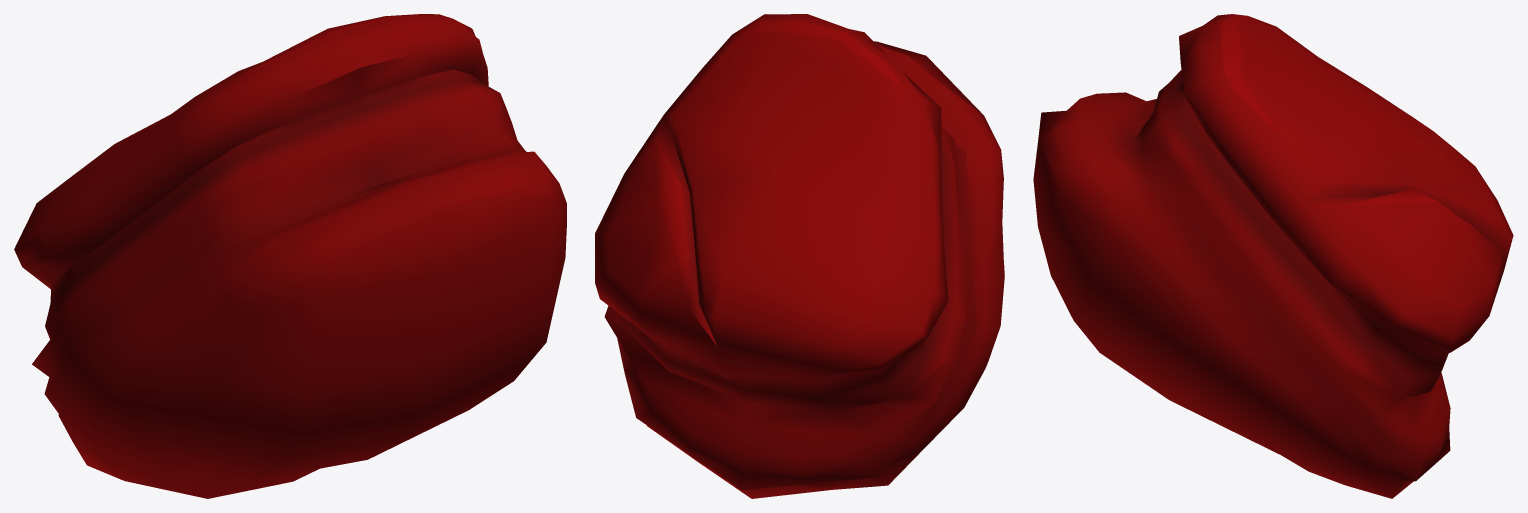
Rendered from geology-rocks-slantedrock_v4.fbx.
3 views of the same model, side by side, from view 1: azimuth 30°, elevation 25°; view 2: azimuth 150°, elevation 25°; view 3: azimuth 270°, elevation 25° (orthographic). The views are drawn at different scales.
Parts seen in each view (by area): view 1: SlantedRock_v4; view 2: SlantedRock_v4; view 3: SlantedRock_v4.
Part boxes in pixels (left/top/right/bottom): SlantedRock_v4: left=14, top=14, right=566, bottom=498; SlantedRock_v4: left=595, top=14, right=1004, bottom=498; SlantedRock_v4: left=1033, top=14, right=1513, bottom=498.
Bounding box in the file's own units: 12.91 × 14.79 × 14.38.
